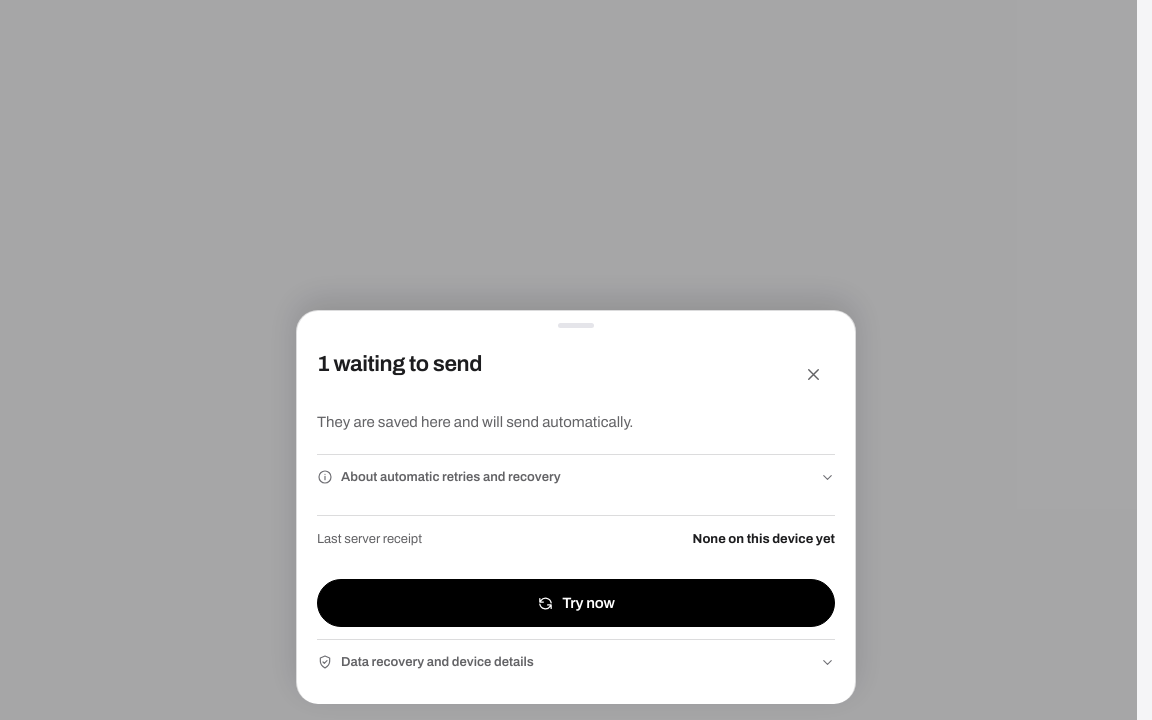
Test: SyncSheet states (§32) › shows waiting counts, storage facts, and a details disclosure with recorded errors
Expected: the 1st heading "1 waiting" is shown, [317, 352, 482, 376]
Click the 3rd heading "data recovery and device details" at (437, 662), box [317, 654, 835, 670]
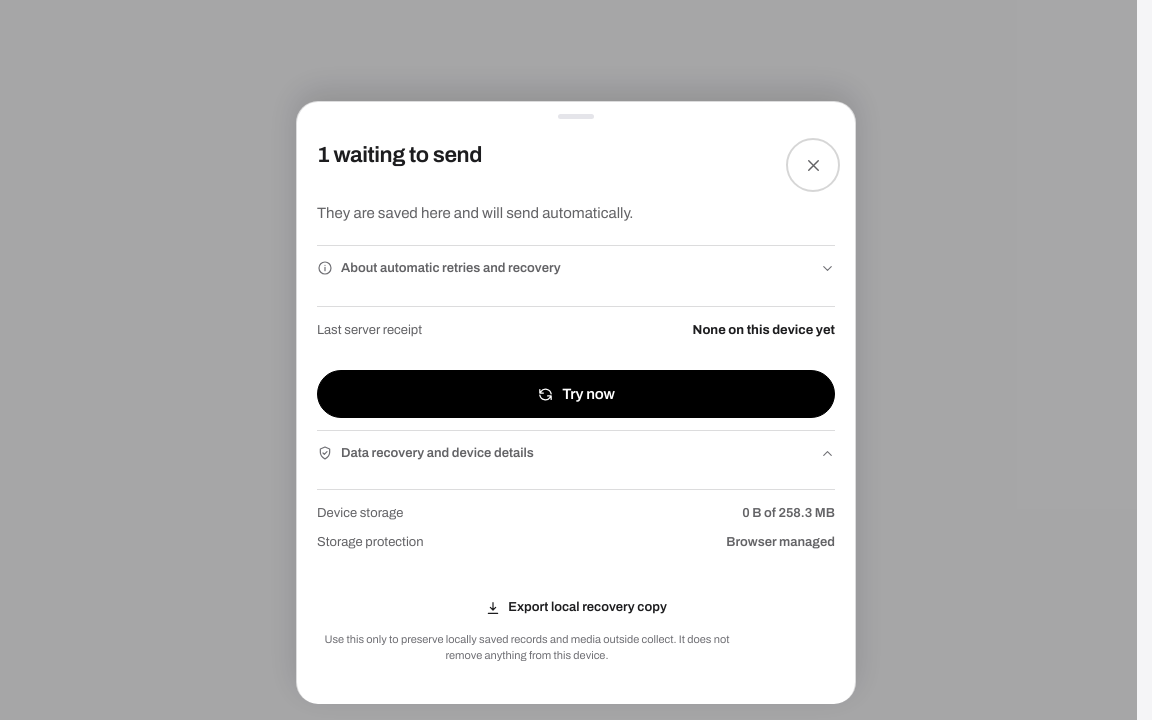
Expected: the 7th text "device storage" is shown, [317, 506, 403, 520]
Expected: the 2nd button named "export local recovery copy" is shown, [317, 580, 835, 624]
